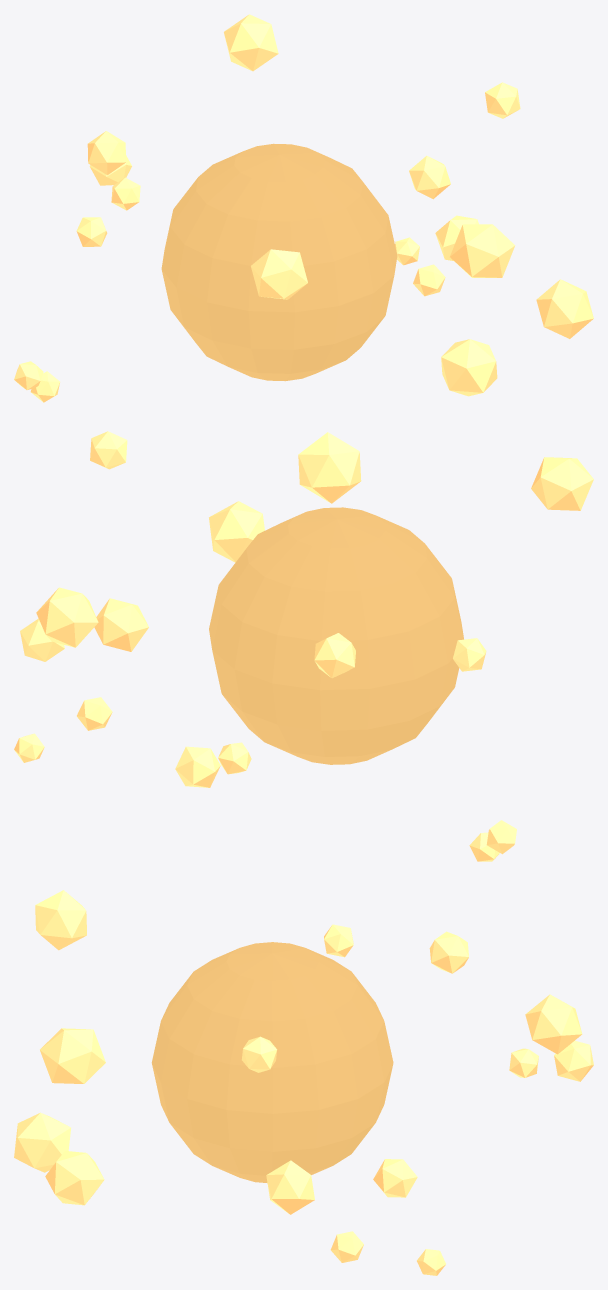
File: planet_exploding.glb
3 renders of one model, top to bottom at view 1: azimuth 30°, elevation 25°; view 2: azimuth 150°, elevation 25°; view 3: azimuth 270°, elevation 25°, orthographic. The views are drawn at different scales.
Visible parts, largest first — view 1: Exploding_Core, ExplodingChunk_04, ExplodingChunk_05, ExplodingChunk_15, ExplodingChunk_06, ExplodingChunk_07, ExplodingChunk_01, ExplodingChunk_08, ExplodingChunk_10, ExplodingChunk_09, ExplodingChunk_11, ExplodingChunk_00 (+5 smaller); view 2: Exploding_Core, ExplodingChunk_04, ExplodingChunk_06, ExplodingChunk_07, ExplodingChunk_15, ExplodingChunk_09, ExplodingChunk_14, ExplodingChunk_01, ExplodingChunk_10, ExplodingChunk_08, ExplodingChunk_11, ExplodingChunk_00 (+3 smaller); view 3: Exploding_Core, ExplodingChunk_04, ExplodingChunk_05, ExplodingChunk_06, ExplodingChunk_15, ExplodingChunk_07, ExplodingChunk_09, ExplodingChunk_08, ExplodingChunk_01, ExplodingChunk_14, ExplodingChunk_10, ExplodingChunk_11 (+3 smaller).
Boxes of the visible parts, box(x1,y1,x2,y2) form: Exploding_Core: box(161, 143, 397, 381); ExplodingChunk_04: box(450, 224, 515, 277); ExplodingChunk_05: box(441, 339, 497, 396); ExplodingChunk_15: box(536, 279, 593, 338); ExplodingChunk_06: box(251, 249, 307, 299); ExplodingChunk_07: box(224, 14, 278, 71); ExplodingChunk_01: box(87, 131, 125, 175); ExplodingChunk_08: box(409, 155, 450, 199); ExplodingChunk_10: box(485, 82, 520, 118); ExplodingChunk_09: box(435, 215, 478, 260); ExplodingChunk_11: box(76, 217, 107, 246); ExplodingChunk_00: box(413, 264, 445, 296); Exploding_Core: box(209, 507, 463, 764); ExplodingChunk_04: box(298, 432, 361, 503); ExplodingChunk_06: box(531, 457, 593, 510); ExplodingChunk_07: box(36, 587, 98, 647); ExplodingChunk_15: box(209, 501, 264, 562); ExplodingChunk_09: box(94, 598, 148, 651); ExplodingChunk_14: box(175, 746, 220, 787); ExplodingChunk_01: box(314, 633, 355, 678); ExplodingChunk_10: box(90, 431, 127, 469); ExplodingChunk_08: box(20, 618, 64, 661); ExplodingChunk_11: box(453, 638, 486, 671); ExplodingChunk_00: box(77, 697, 112, 730); Exploding_Core: box(151, 942, 393, 1183); ExplodingChunk_04: box(40, 1028, 105, 1083); ExplodingChunk_05: box(14, 1112, 70, 1172); ExplodingChunk_06: box(35, 890, 86, 950); ExplodingChunk_15: box(45, 1151, 104, 1205); ExplodingChunk_07: box(525, 994, 582, 1054); ExplodingChunk_09: box(266, 1160, 314, 1214); ExplodingChunk_08: box(373, 1159, 417, 1197); ExplodingChunk_01: box(429, 931, 468, 973); ExplodingChunk_14: box(554, 1040, 593, 1081); ExplodingChunk_10: box(241, 1036, 277, 1072); ExplodingChunk_11: box(324, 924, 353, 957).
Size of the model in its own units: 1.08 by 0.6016 by 1.2.
